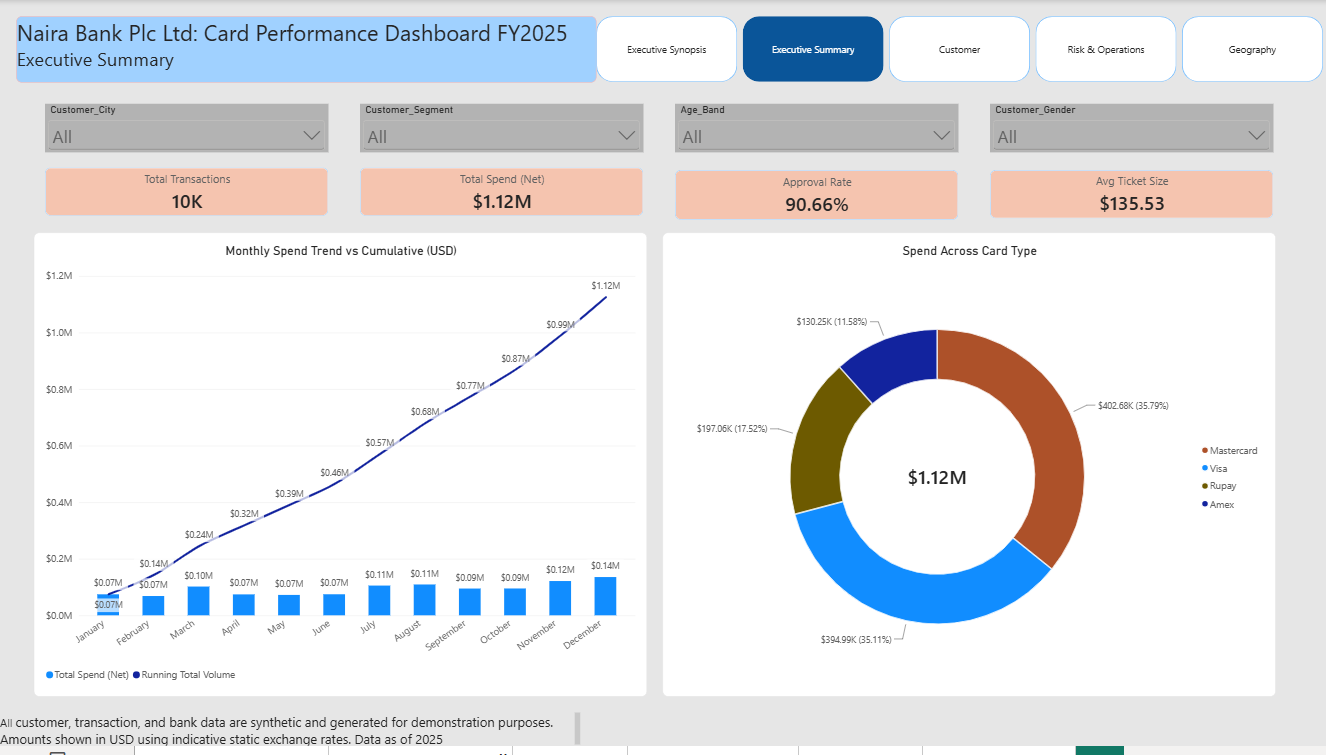

Layout of this report page (visuals, bound fields, positions):
{"tool":"powerbi","page":{"name":"Executive Summary","canvas":[1920,1080],"ordinal":1},"visuals":[{"type":"textbox","box":[24,24,840,96],"z":0},{"type":"pageNavigator","box":[864,24,1056,96],"z":1000},{"type":"textbox","box":[0,1032,840,48],"z":2000},{"type":"cardVisual","fields":{"Data":["_Measures.Total Transactions"]},"box":[64.9,242.8,410,70],"z":3000},{"type":"cardVisual","fields":{"Data":["_Measures.Total Volume (Net)"]},"box":[520.9,242.8,410,70],"z":4000},{"type":"cardVisual","fields":{"Data":["_Measures.Approval Rate"]},"box":[976.6,245.8,410,72],"z":5000},{"type":"cardVisual","fields":{"Data":["_Measures.Avg Ticket Size"]},"box":[1432.6,245.8,410,70],"z":6000},{"type":"slicer","fields":{"Values":["Dim_Customer.Customer_City"]},"box":[64.6,149.8,410,70],"z":7000},{"type":"slicer","fields":{"Values":["Dim_Customer.Customer_Segment"]},"box":[520.6,149.8,410,70],"z":8000},{"type":"lineClusteredColumnComboChart","title":"Monthly Spend Trend  vs Cumulative (USD)","fields":{"Category":["Dim_Date.MonthName"],"Y":["_Measures.Total Spend (Net)"],"Y2":["_Measures.Running Total Volume"]},"box":[48,336,888,672],"z":9000},{"type":"donutChart","title":"Spend Across Card Type","fields":{"Category":["Dim_BIN_Info.Card_Type"],"Y":["_Measures.Total Spend (Net)"]},"box":[960,336,888,672],"z":10000},{"type":"slicer","fields":{"Values":["Dim_Customer.Age_Band"]},"box":[976.6,149.8,410,70],"z":11000},{"type":"slicer","fields":{"Values":["Dim_Customer.Customer_Gender"]},"box":[1432.6,149.8,410,70],"z":12000}]}

Visuals, with their boxes in screenshot pixels (x1, y1, x2, y2), scaled from the page's 1920x1080 canvas onto the 1326x755 screenshot:
textbox: [17, 17, 597, 84]
pageNavigator: [597, 17, 1325, 84]
textbox: [0, 721, 580, 754]
cardVisual - _Measures.Total Transactions: [45, 170, 328, 219]
cardVisual - _Measures.Total Volume (Net): [360, 170, 643, 219]
cardVisual - _Measures.Approval Rate: [674, 172, 958, 222]
cardVisual - _Measures.Avg Ticket Size: [989, 172, 1273, 221]
slicer - Dim_Customer.Customer_City: [45, 105, 328, 154]
slicer - Dim_Customer.Customer_Segment: [360, 105, 643, 154]
"Monthly Spend Trend  vs Cumulative (USD)" lineClusteredColumnComboChart: [33, 235, 646, 705]
"Spend Across Card Type" donutChart: [663, 235, 1276, 705]
slicer - Dim_Customer.Age_Band: [674, 105, 958, 154]
slicer - Dim_Customer.Customer_Gender: [989, 105, 1273, 154]
